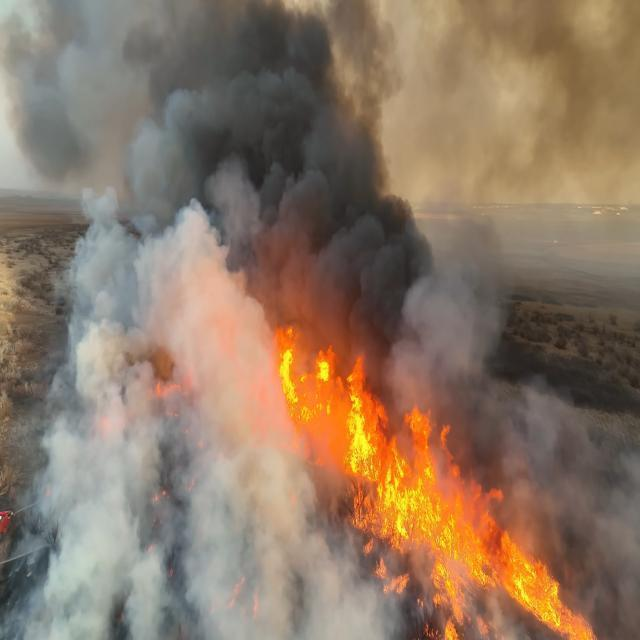Fire: (344, 412, 447, 540), (275, 335, 364, 450), (433, 481, 513, 591)
Smoke: (122, 0, 369, 293), (116, 190, 262, 444), (274, 126, 433, 307), (400, 223, 515, 380)
